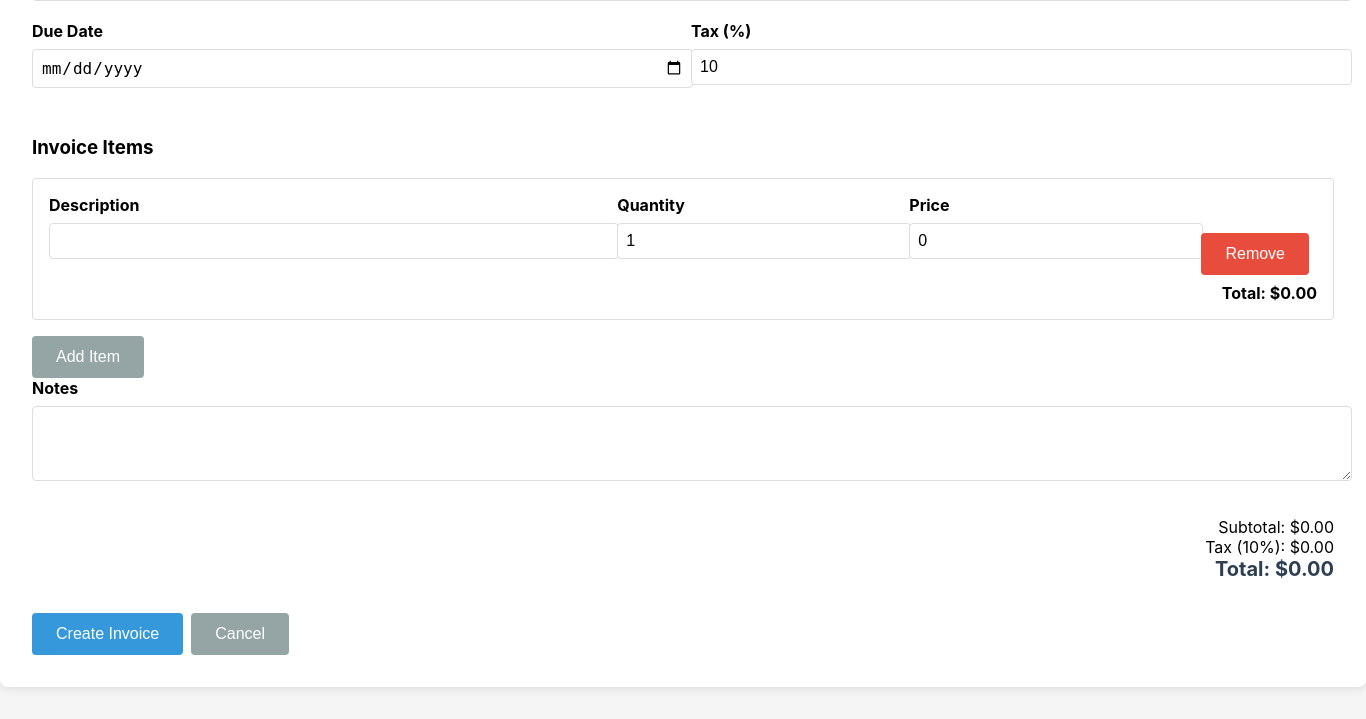
Test: InvoiceForm Component › shows validation errors for empty required fields
(page scrolled)
Click the button "Create Invoice": click(108, 634) [32,612,183,654]
(page scrolled)
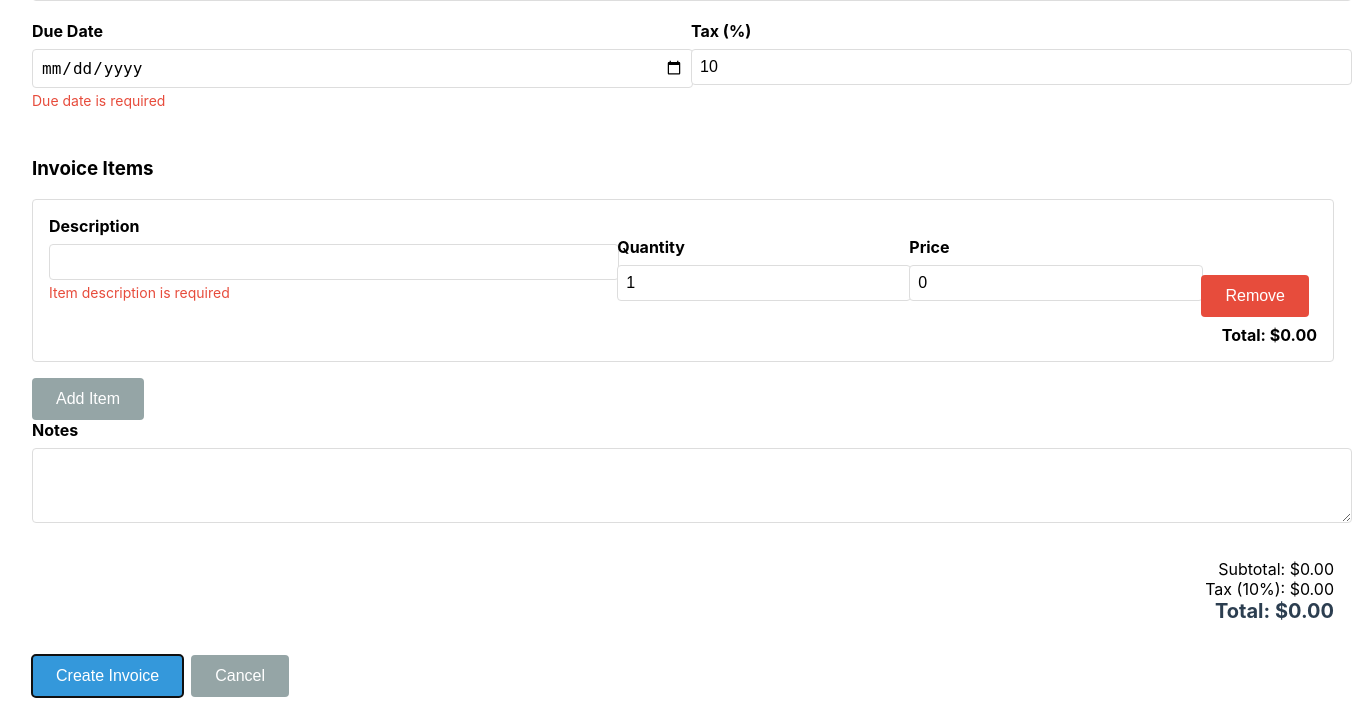
Now the text "Due date is required" is shown, box [32,92,165,109]
